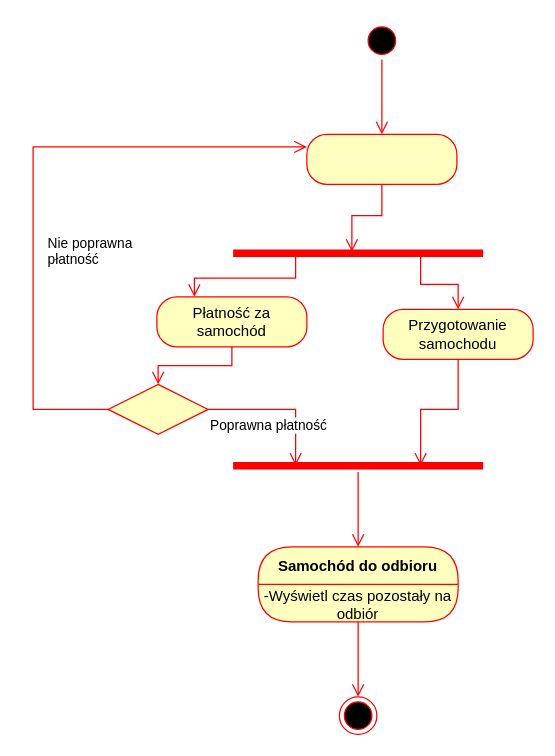
The diagram is 555 pixels wide and 756 high, and some of its shapes have lost their labels. Here are the shapes that lost their labels. From the top down, the box of each, then its label:
(306, 133, 457, 184): Przyjęcie zamówienia
(338, 696, 377, 734): Zakończone Zamówienie
